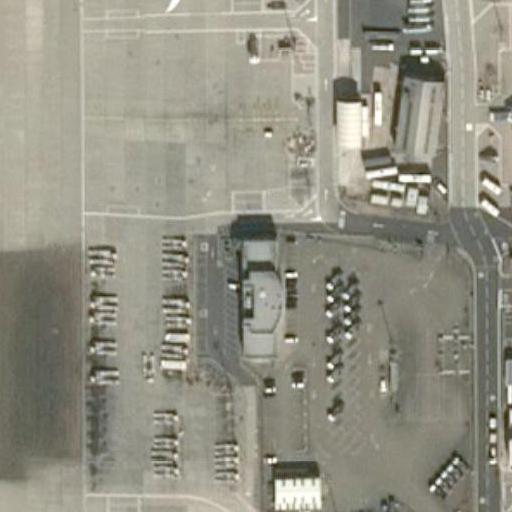Aircraft: (105, 0, 277, 15), (499, 27, 512, 193)
